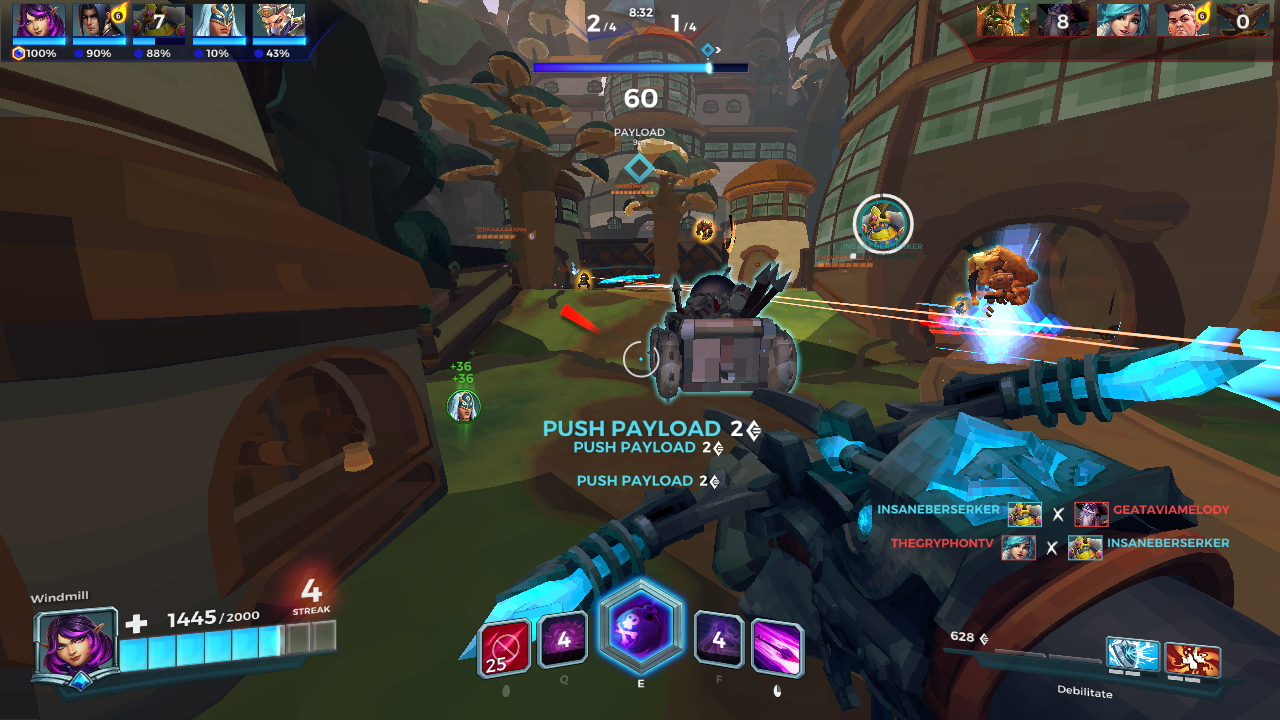model: (694, 218, 715, 239), (573, 270, 594, 291)
